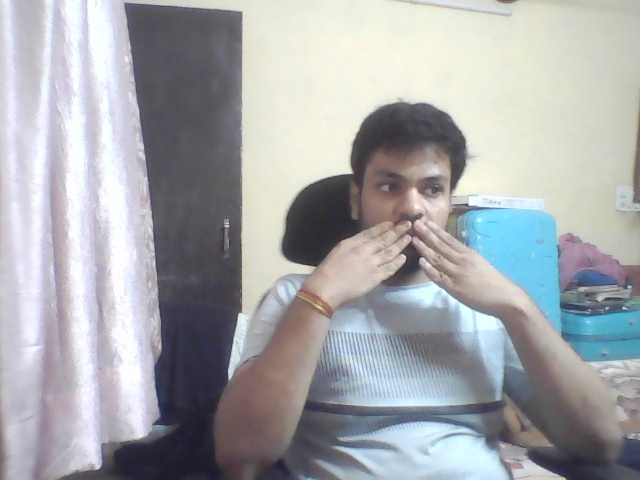Thanks: (306, 201, 531, 332)
